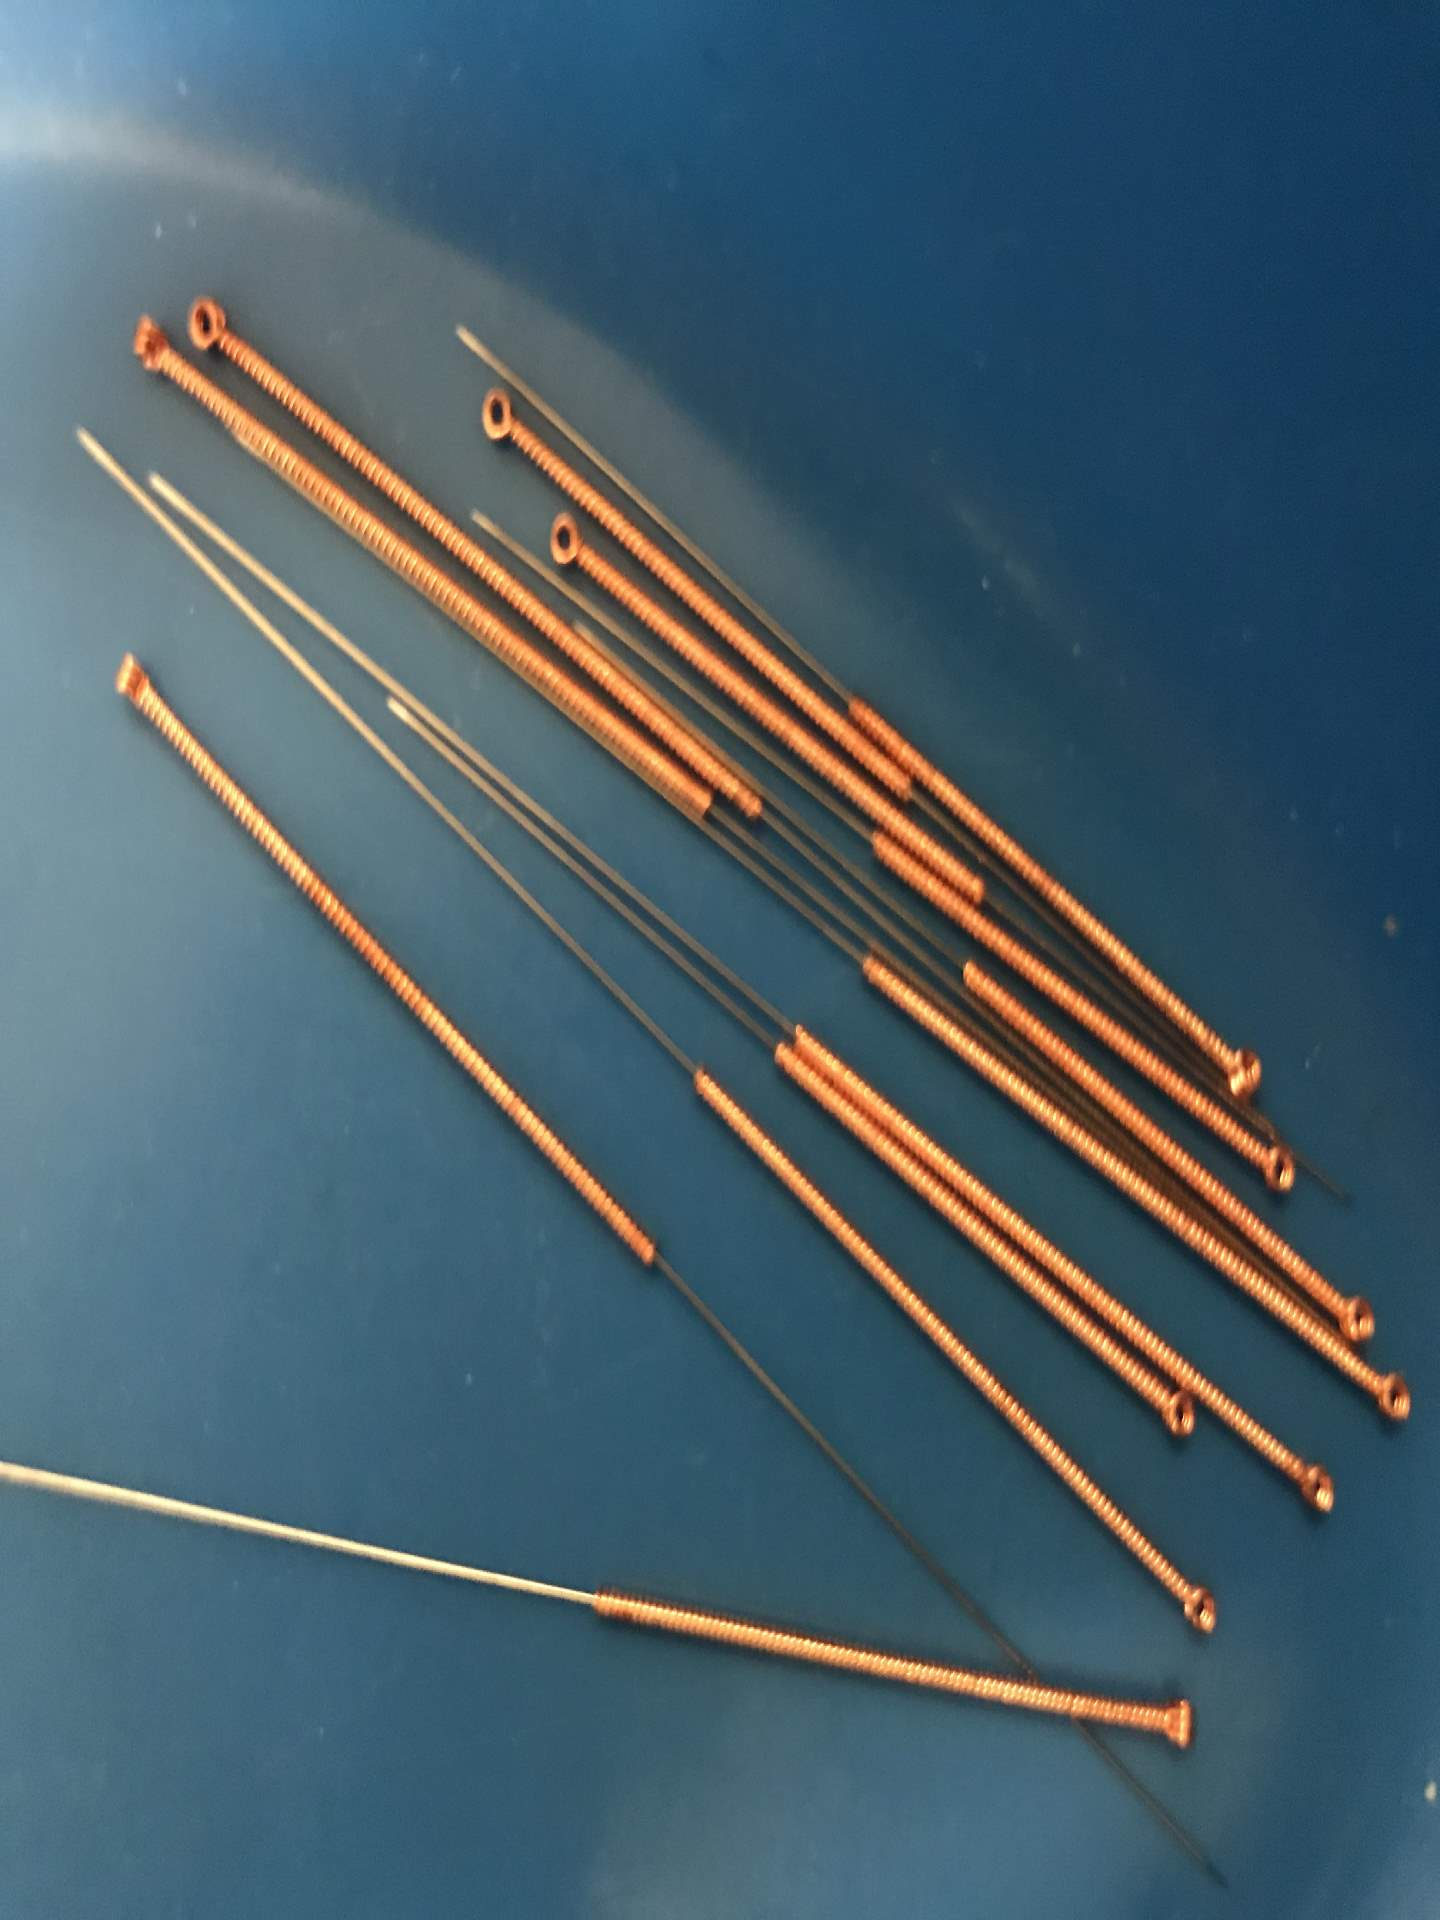needle: (1128, 1677, 1212, 1766), (1271, 1447, 1351, 1530), (175, 281, 247, 366), (457, 373, 532, 451), (1160, 1565, 1228, 1649), (1203, 1031, 1278, 1107), (91, 636, 163, 714), (1348, 1361, 1422, 1432), (528, 506, 597, 579), (1239, 1129, 1308, 1200), (112, 304, 175, 379), (1330, 1281, 1381, 1355), (1147, 1383, 1199, 1447)
